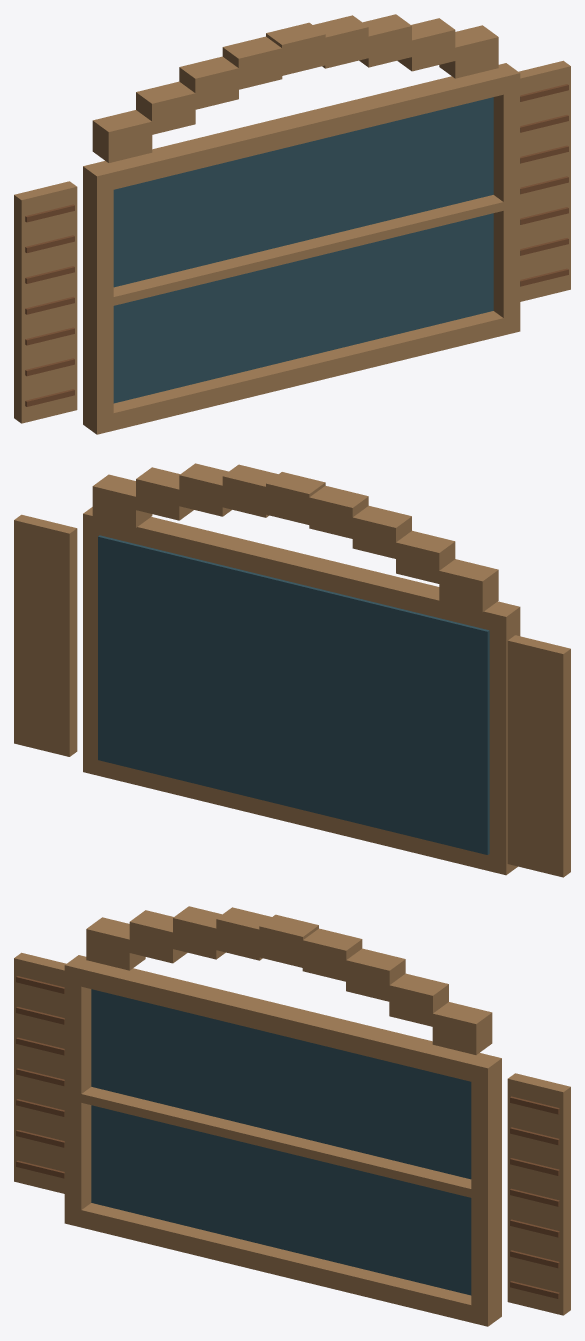
The model's file is window_13.glb.
3 views of the same model, one above another, from view 1: azimuth 30°, elevation 25°; view 2: azimuth 150°, elevation 25°; view 3: azimuth 330°, elevation 25° (orthographic).
Parts seen in each view (by area): view 1: window_13; view 2: window_13; view 3: window_13.
Boxes of the visible parts, box(x1,y1,x2,y2) form: window_13: box(14, 14, 570, 434); window_13: box(14, 463, 570, 877); window_13: box(14, 906, 570, 1326).
Size of the model in its own units: 2.96 by 1.75 by 0.195.
